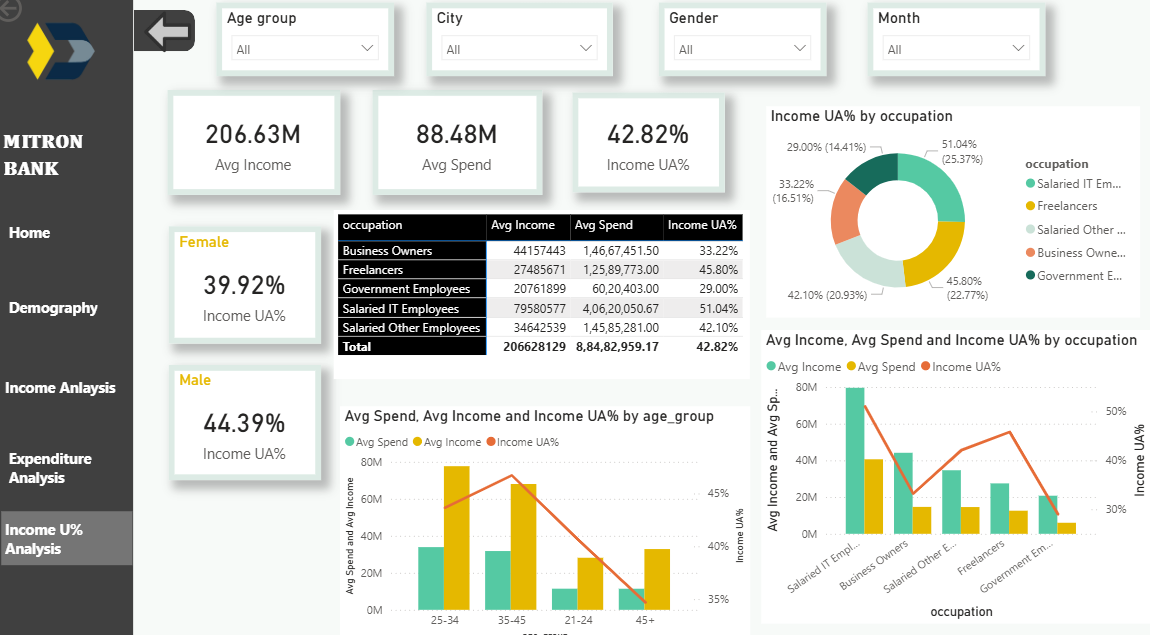

This screenshot's page, from the dashboard's own definition file:
{"tool":"powerbi","page":{"name":"Income Utilization","canvas":[1280,720],"ordinal":4},"visuals":[{"type":"shape","box":[-3.8,0,161.2,720],"z":0},{"type":"image","box":[6.2,0,142.5,134.3],"z":0,"group":"g1"},{"type":"group","id":"g1","title":"Group 1","box":[6.2,0,142.5,220],"z":1000},{"type":"textbox","box":[8.4,109.1,108.8,111.2],"z":1000,"group":"g1"},{"type":"shape","box":[157.8,22,67.2,45.3],"z":2000},{"type":"actionButton","box":[16.3,241.9,193,48.8],"z":3000},{"type":"actionButton","box":[16.3,324.4,193,48.8],"z":4000},{"type":"actionButton","box":[12.5,411.9,147.8,48.9],"z":5000},{"type":"actionButton","box":[16.2,496.2,123.8,55],"z":6000},{"type":"actionButton","box":[12.3,572.2,144.1,59],"z":7000},{"type":"image","box":[160.5,8.2,68.6,75.5],"z":8000},{"type":"card","fields":{"Values":["dim_customers_mitron_bank.Avg Income"]},"box":[194.9,109.8,189.4,115.3],"z":9000},{"type":"card","fields":{"Values":["dim_customers_mitron_bank.Avg Spend"]},"box":[419.9,109.8,186.6,115.3],"z":10000},{"type":"card","fields":{"Values":["dim_customers_mitron_bank.Income UA%"]},"box":[639.5,112.5,167.4,109.8],"z":11000},{"type":"card","title":"Female","fields":{"Values":["dim_customers_mitron_bank.Income UA%"]},"box":[196.2,259.3,167.4,129],"z":12000},{"type":"actionButton","box":[0,0,100,40],"z":13000},{"type":"card","title":"Male","fields":{"Values":["dim_customers_mitron_bank.Income UA%"]},"box":[196.2,411.7,167.4,126.2],"z":14000},{"type":"lineClusteredColumnComboChart","fields":{"Category":["dim_customers_mitron_bank.occupation"],"Y":["dim_customers_mitron_bank.Avg Income","dim_customers_mitron_bank.Avg Spend"],"Y2":["dim_customers_mitron_bank.Income UA%"]},"box":[846.7,373.2,428.1,322.5],"z":15000},{"type":"lineClusteredColumnComboChart","fields":{"Category":["dim_customers_mitron_bank.age_group"],"Y":["dim_customers_mitron_bank.Avg Spend","dim_customers_mitron_bank.Avg Income"],"Y2":["dim_customers_mitron_bank.Income UA%"]},"box":[384.2,456.9,450.1,263.5],"z":16000},{"type":"pivotTable","fields":{"Rows":["dim_customers_mitron_bank.occupation"],"Values":["dim_customers_mitron_bank.Avg Income","dim_customers_mitron_bank.Avg Spend","dim_customers_mitron_bank.Income UA%"]},"box":[377.4,241.5,456.9,185.2],"z":17000},{"type":"donutChart","fields":{"Y":["dim_customers_mitron_bank.Income UA%"],"Category":["dim_customers_mitron_bank.occupation"]},"box":[852.1,127.6,410.3,231.9],"z":18000},{"type":"slicer","title":"Age group","fields":{"Values":["dim_customers_mitron_bank.age_group"]},"box":[248.4,13.7,194.9,81],"z":19000},{"type":"slicer","title":"City","fields":{"Values":["dim_customers_mitron_bank.city"]},"box":[478.9,13.7,204.5,81],"z":20000},{"type":"slicer","title":"Gender","fields":{"Values":["dim_customers_mitron_bank.gender"]},"box":[734.1,13.7,183.9,81],"z":21000},{"type":"slicer","title":"Month","fields":{"Values":["fact_spends mitron_bank.month"]},"box":[963.3,13.7,194.9,81],"z":22000}]}

Visuals, with their boxes on the page's 1280x720 design canvas (x1, y1, x2, y2). These are canvas units, not pixel positions in the 1150x635 screenshot, which may show the page scaled, cropped or inside an application window:
shape: (-4, 0, 157, 720)
image: (6, 0, 149, 134)
"Group 1" group: (6, 0, 149, 220)
textbox: (8, 109, 117, 220)
shape: (158, 22, 225, 67)
actionButton: (16, 242, 209, 291)
actionButton: (16, 324, 209, 373)
actionButton: (12, 412, 160, 461)
actionButton: (16, 496, 140, 551)
actionButton: (12, 572, 156, 631)
image: (160, 8, 229, 84)
card - dim_customers_mitron_bank.Avg Income: (195, 110, 384, 225)
card - dim_customers_mitron_bank.Avg Spend: (420, 110, 606, 225)
card - dim_customers_mitron_bank.Income UA%: (640, 112, 807, 222)
"Female" card: (196, 259, 364, 388)
actionButton: (0, 0, 100, 40)
"Male" card: (196, 412, 364, 538)
lineClusteredColumnComboChart - dim_customers_mitron_bank.occupation x dim_customers_mitron_bank.Avg Income: (847, 373, 1275, 696)
lineClusteredColumnComboChart - dim_customers_mitron_bank.age_group x dim_customers_mitron_bank.Avg Spend: (384, 457, 834, 720)
pivotTable - dim_customers_mitron_bank.occupation x dim_customers_mitron_bank.Avg Income: (377, 242, 834, 427)
donutChart - dim_customers_mitron_bank.Income UA% x dim_customers_mitron_bank.occupation: (852, 128, 1262, 360)
"Age group" slicer: (248, 14, 443, 95)
"City" slicer: (479, 14, 683, 95)
"Gender" slicer: (734, 14, 918, 95)
"Month" slicer: (963, 14, 1158, 95)
